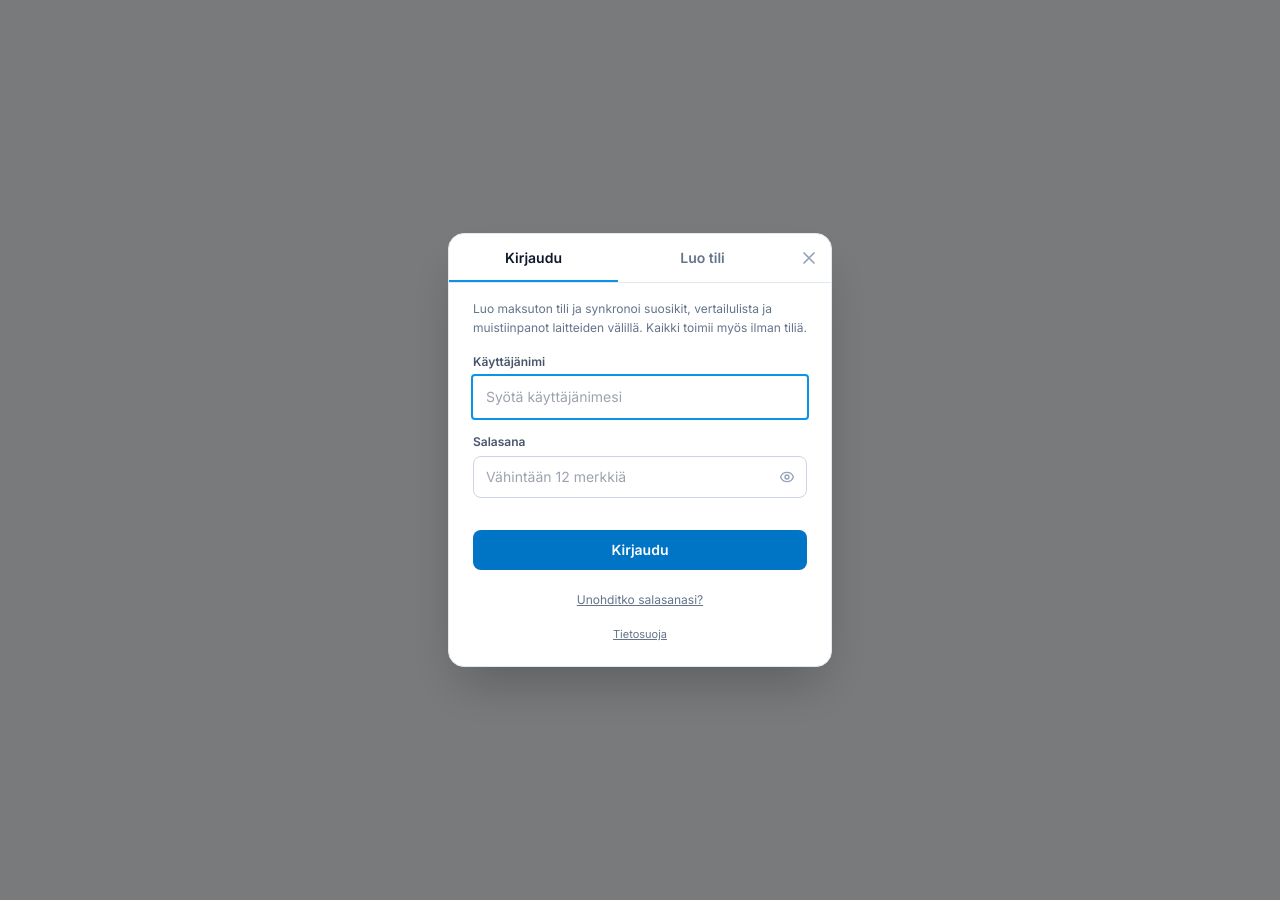
Test: AuthModal — forgot password › offers the reset link on the login tab only
Expected: the button "Unohditko salasanasi?" is shown, [577,592,703,608]
# Signup has no password to have forgotten yet.
Click the button "Luo tili": {"x": 702, "y": 258} [618,234,787,282]
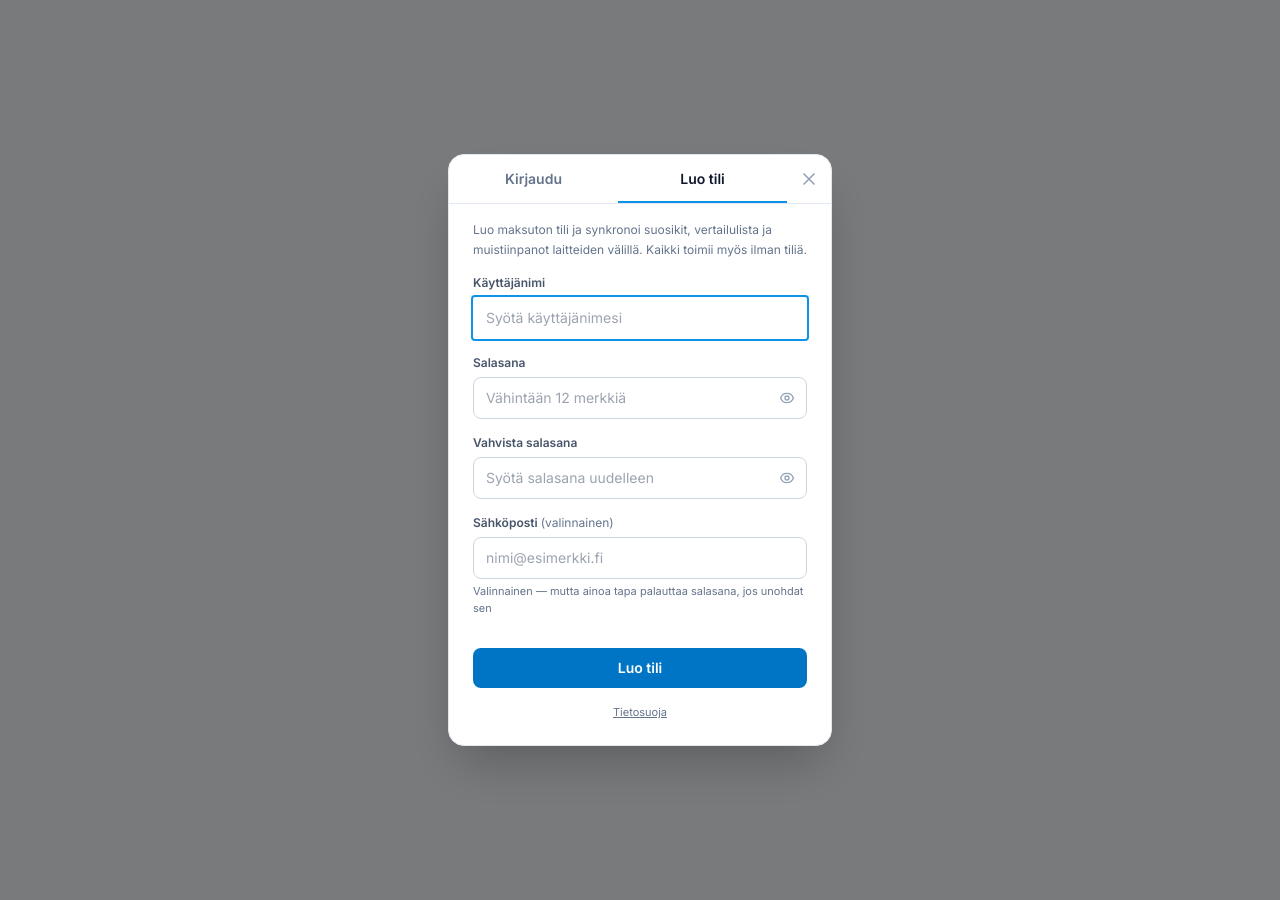
Expected: the button "Unohditko salasanasi?" is gone
